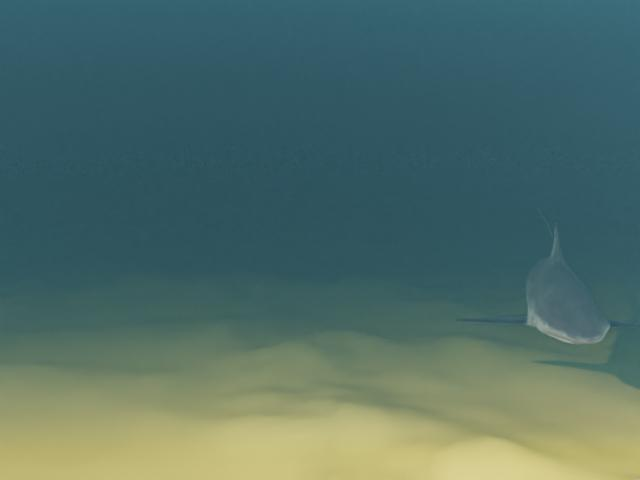Carribean Shark.001: (454, 205, 640, 344)
